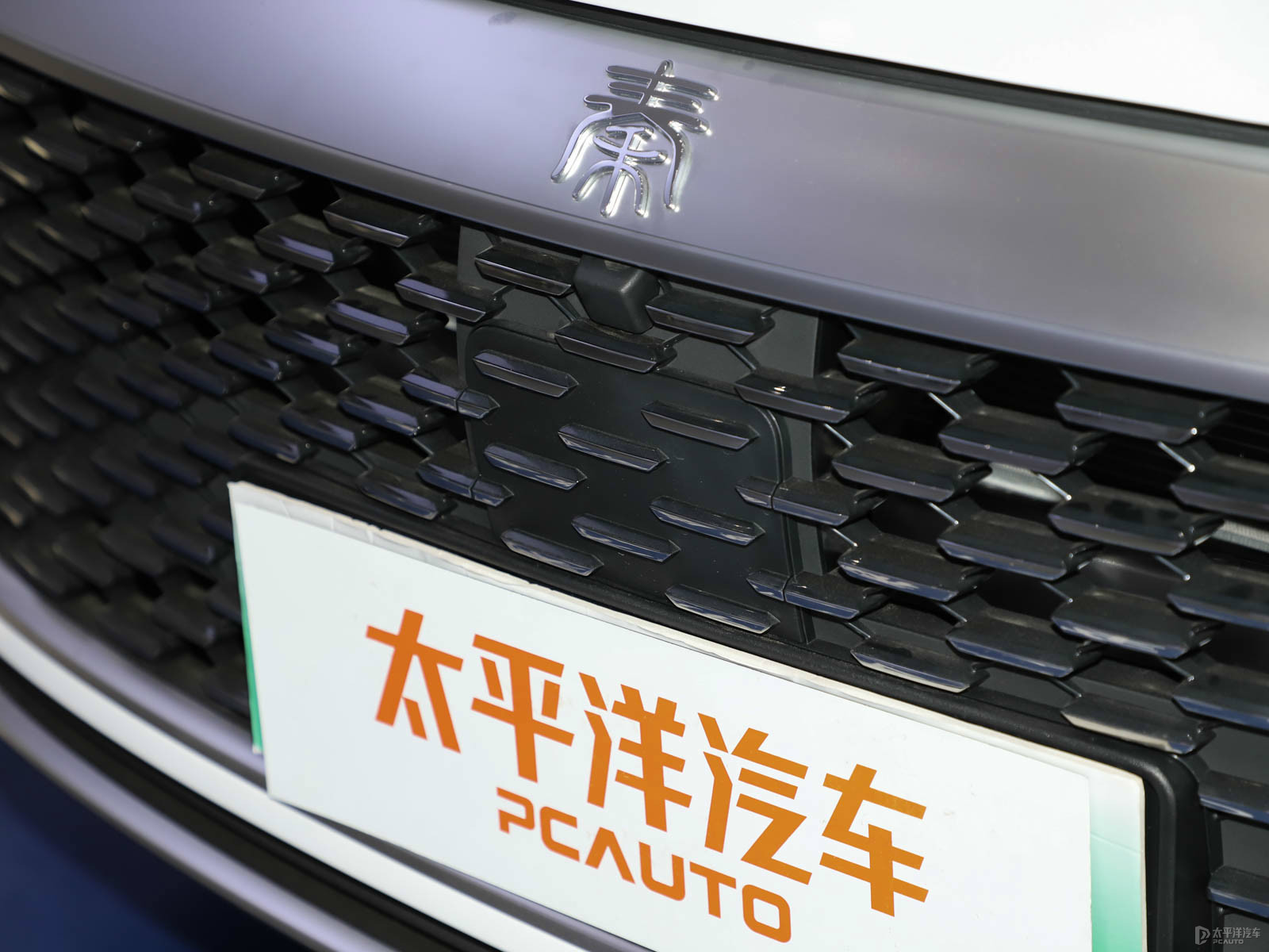BYD Qin: (552, 61, 718, 216)
